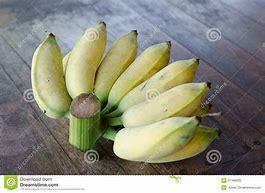banana: (29, 25, 225, 156)
